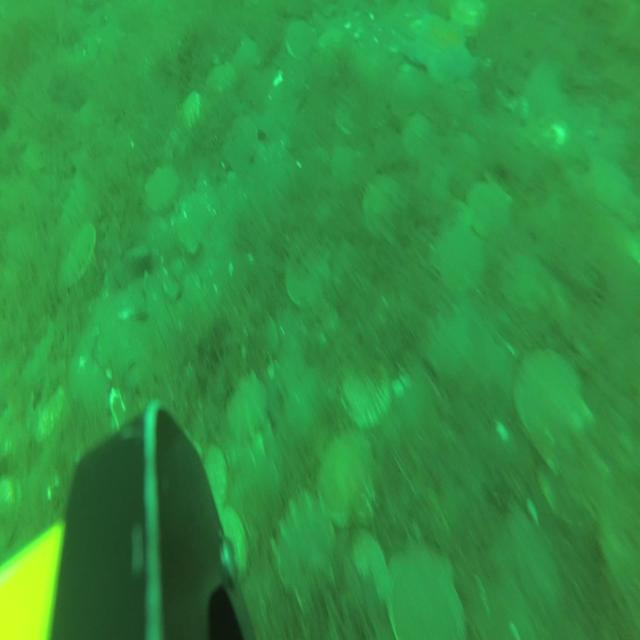scallop: (512, 336, 594, 468), (271, 487, 336, 619), (384, 541, 470, 640), (317, 424, 379, 532), (539, 448, 614, 530), (331, 525, 392, 607), (432, 221, 488, 297), (283, 236, 334, 309), (342, 360, 393, 433), (360, 176, 410, 247), (465, 173, 515, 239), (502, 250, 554, 311), (225, 376, 269, 447), (60, 219, 95, 293), (198, 438, 229, 519), (220, 504, 250, 583), (142, 160, 182, 214), (0, 472, 24, 558), (31, 381, 63, 442), (401, 112, 433, 162), (229, 113, 259, 165), (285, 18, 319, 61), (232, 34, 262, 78), (450, 1, 490, 33), (206, 62, 236, 99), (180, 87, 205, 131)
starfish: (403, 18, 475, 88)
